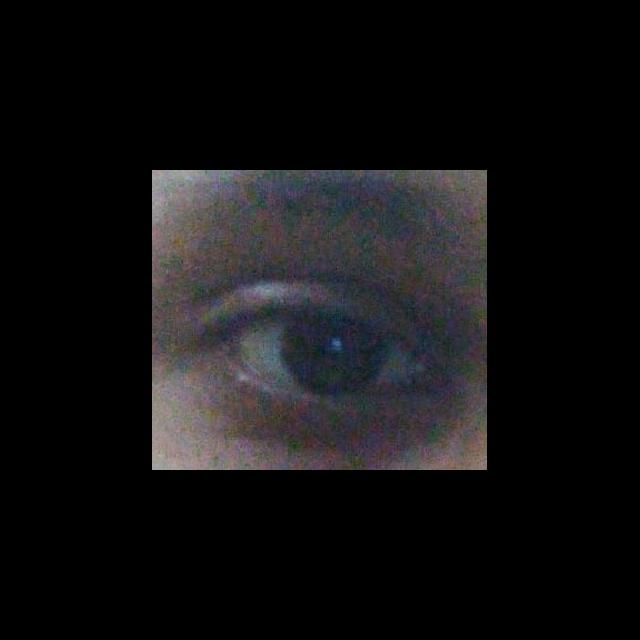eye: (235, 310, 418, 394)
iris: (284, 312, 389, 394)
